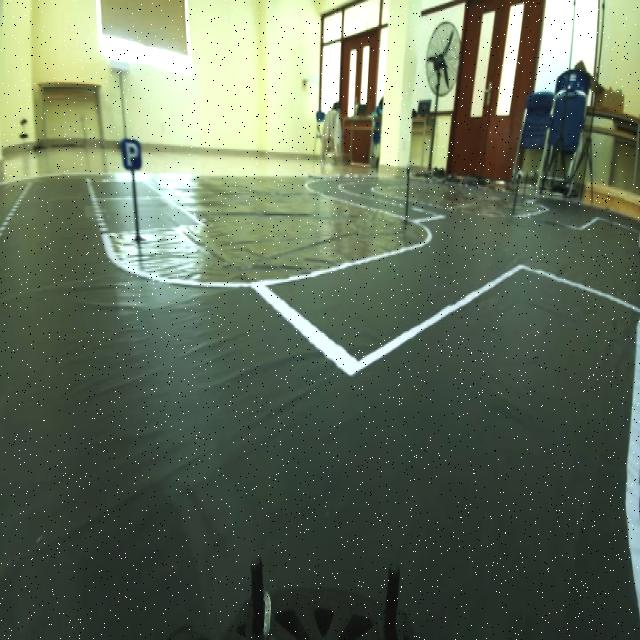parking: (117, 129, 143, 181)
